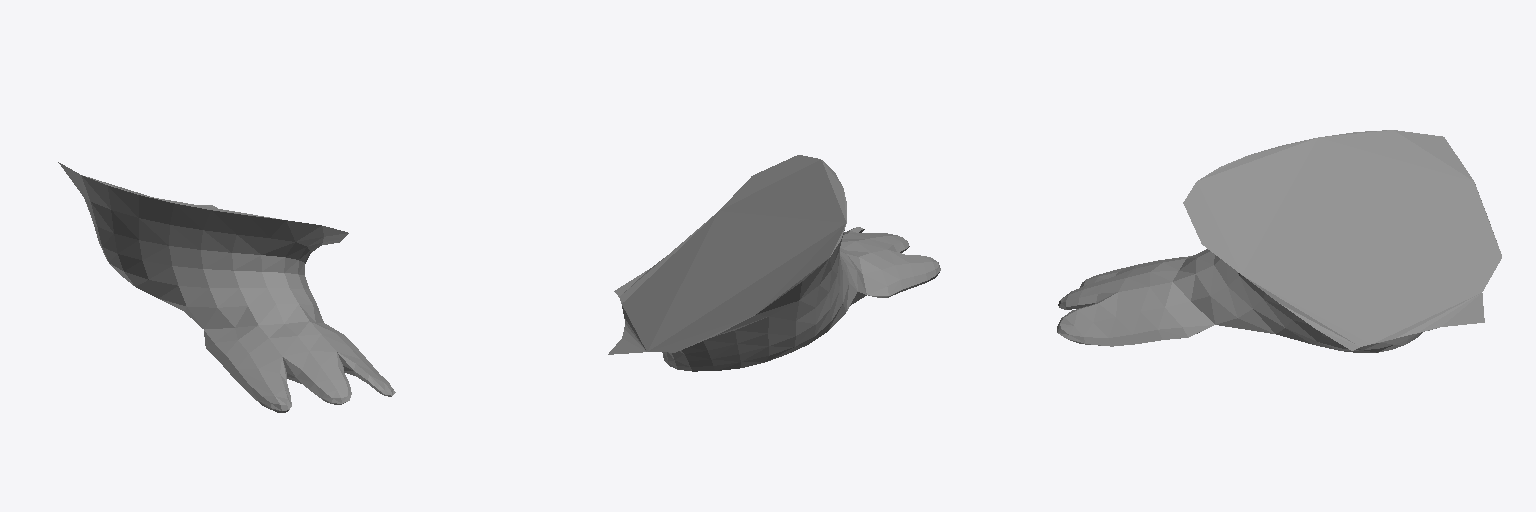
The model's file is PieDerPinguino.obj.
3 renders of one model, left to right at view 1: azimuth 30°, elevation 25°; view 2: azimuth 150°, elevation 25°; view 3: azimuth 270°, elevation 25°, orthographic.
Parts seen in each view (by area): view 1: PieDer; view 2: PieDer; view 3: PieDer.
Boxes of the visible parts, <box> form: PieDer: <box>58,162,395,412</box>; PieDer: <box>608,155,940,371</box>; PieDer: <box>1057,130,1501,352</box>.
Bounding box in the file's own units: 1.35 × 0.7797 × 2.19.